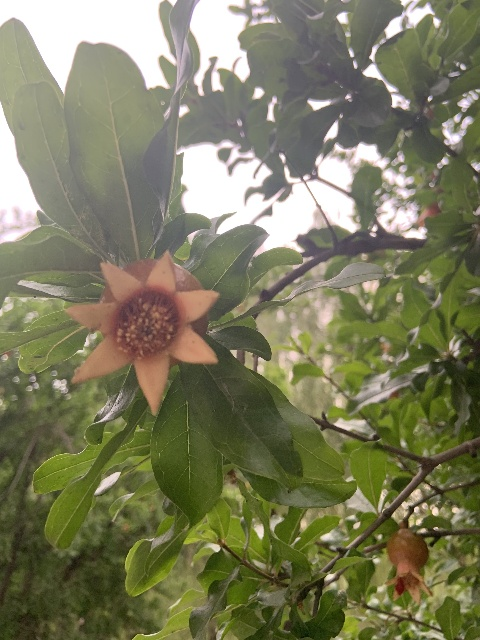early-fruit: (64, 252, 220, 416), (384, 529, 433, 604)
